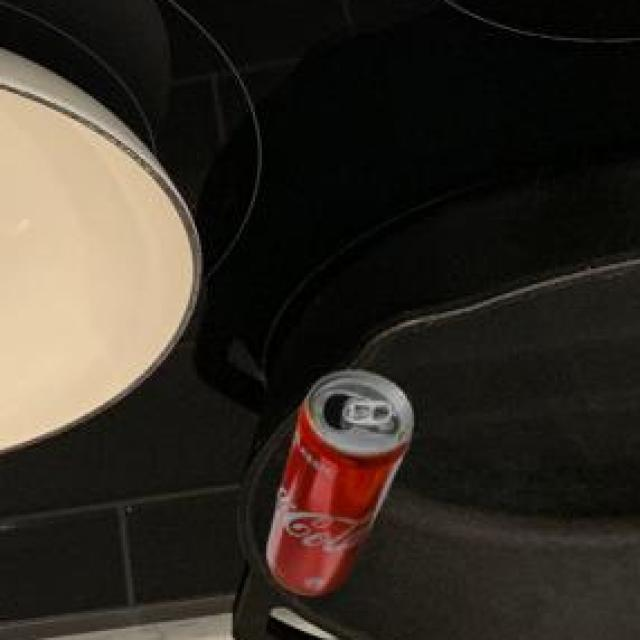logam: (270, 375, 415, 599)
